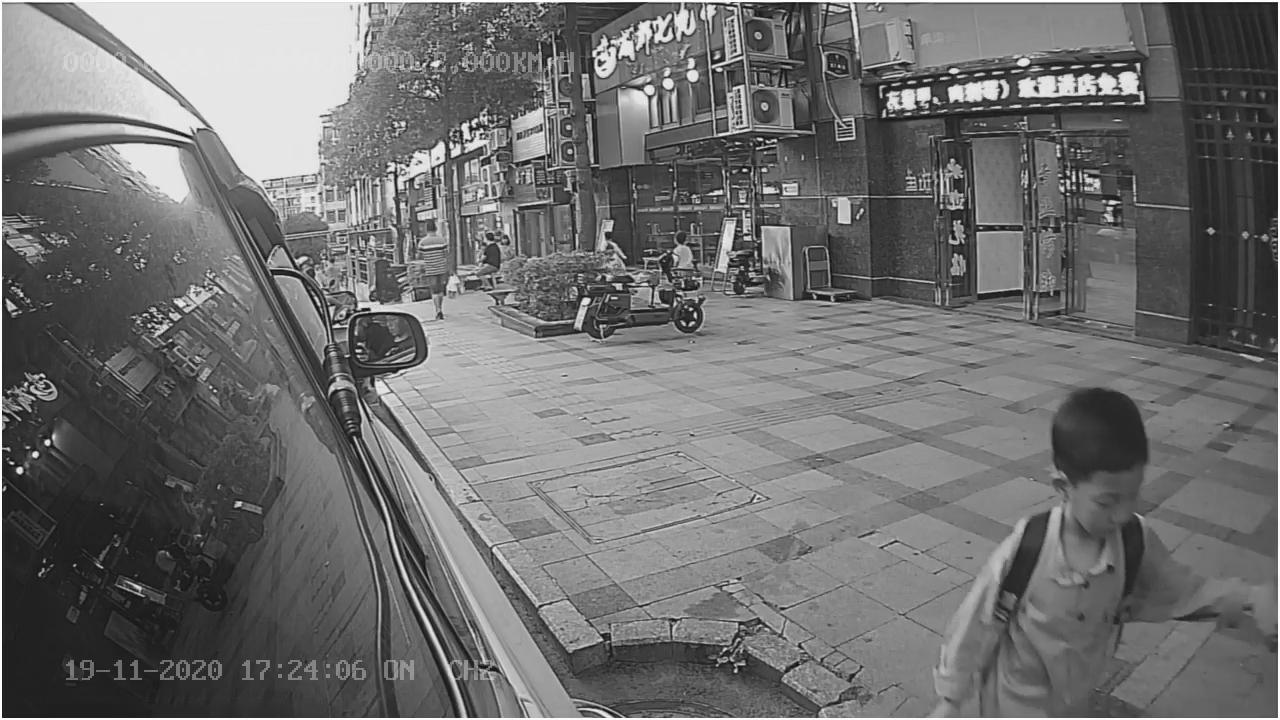person: (936, 383, 1257, 710)
